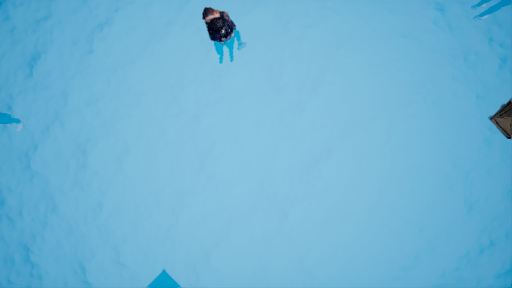person: (201, 7, 252, 64)
